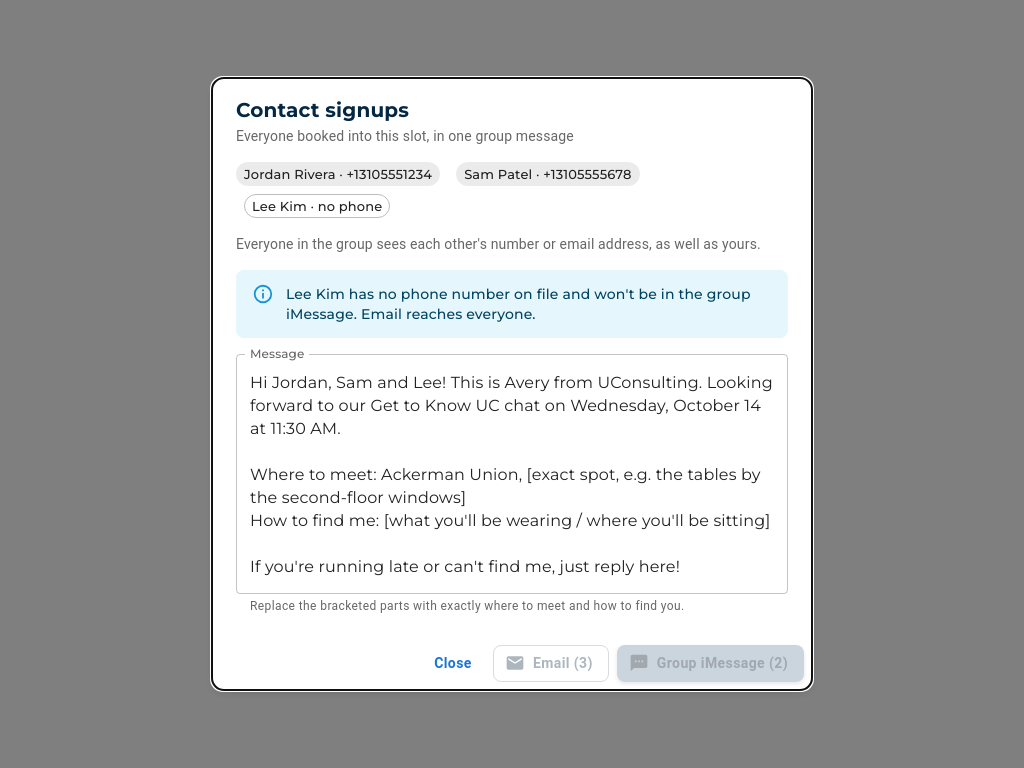
Test: SlotContactDialog › logs nothing when the browser blocks the Gmail tab
Click the button "Email (3)".
click(551, 663)  # box [493,645,609,682]
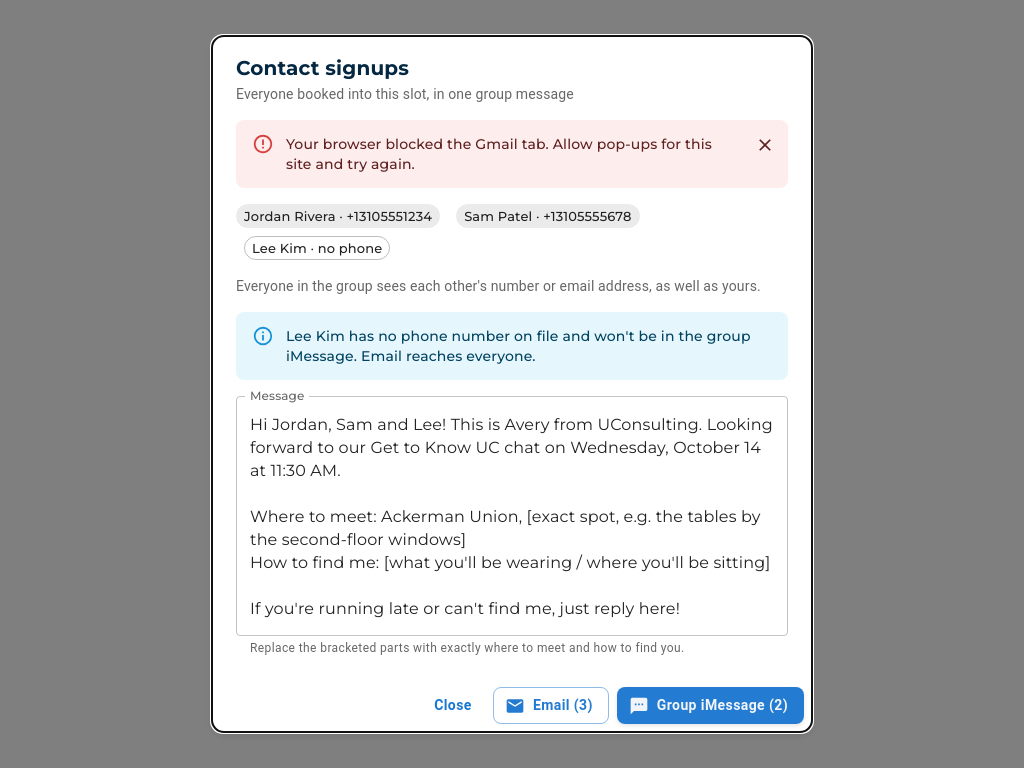
Expected: the text "blocked the Gmail tab" is shown, [286,135,712,173]
